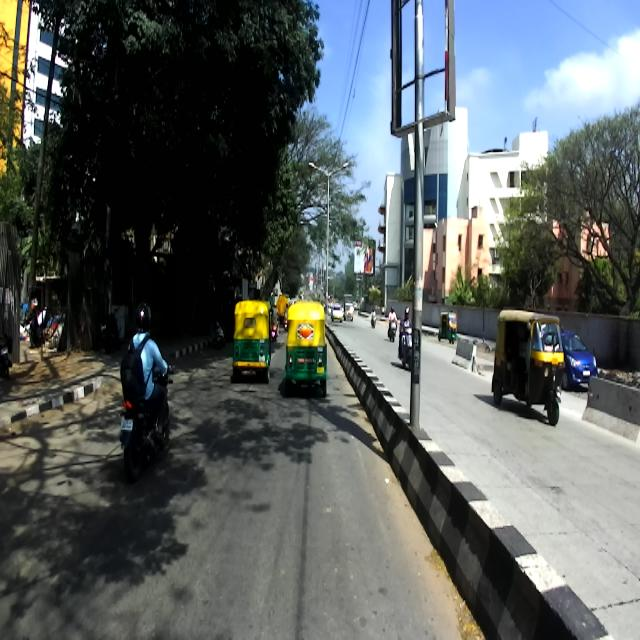auto ahead at: (284, 297, 329, 407), (230, 297, 275, 382)
motorcycle ahead at: (116, 388, 174, 468)
